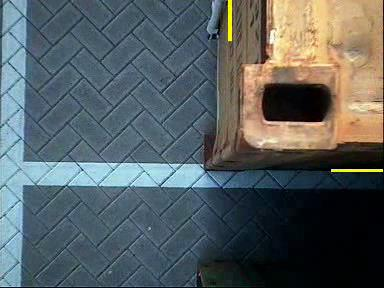groundmarker_2: (105, 66, 175, 105), (103, 192, 173, 230)
